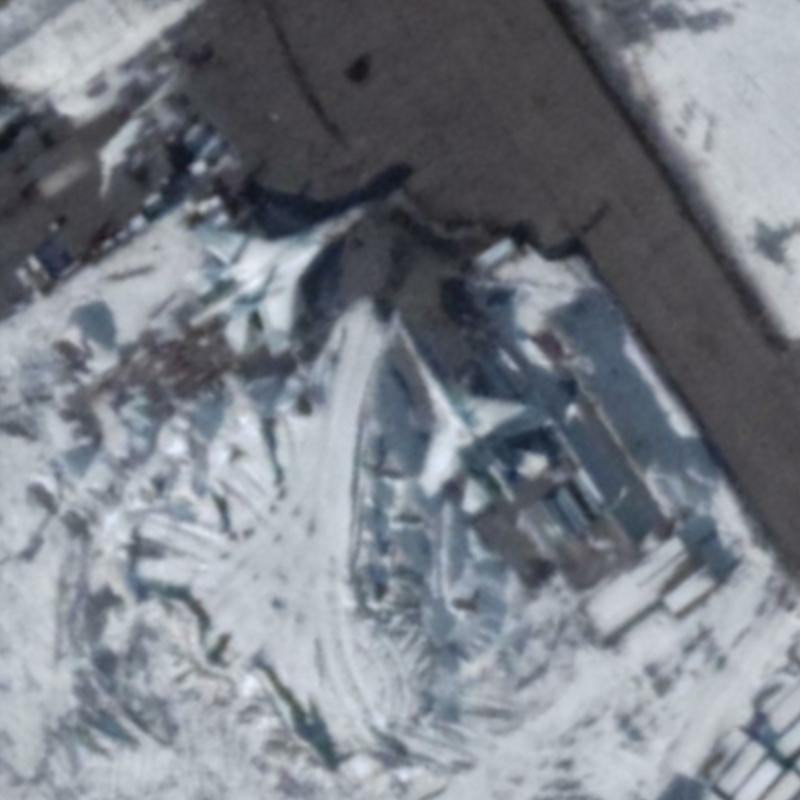A1: (386, 315, 562, 519), (182, 192, 376, 362)
